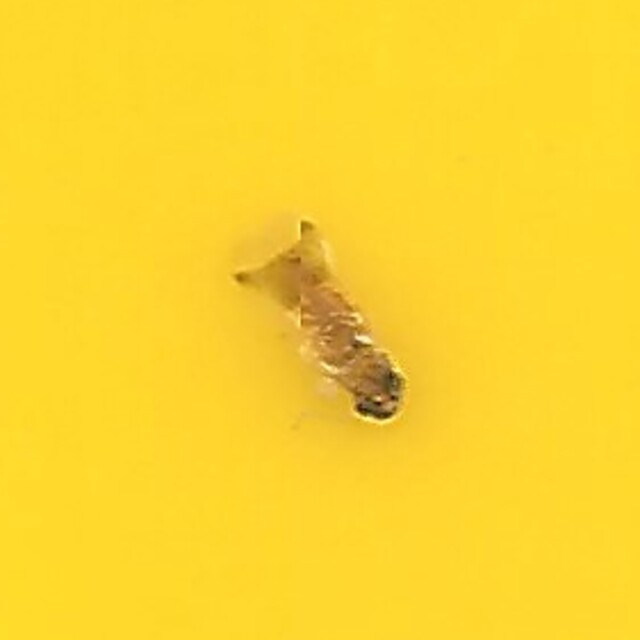Hemiptera: (228, 213, 412, 427)
